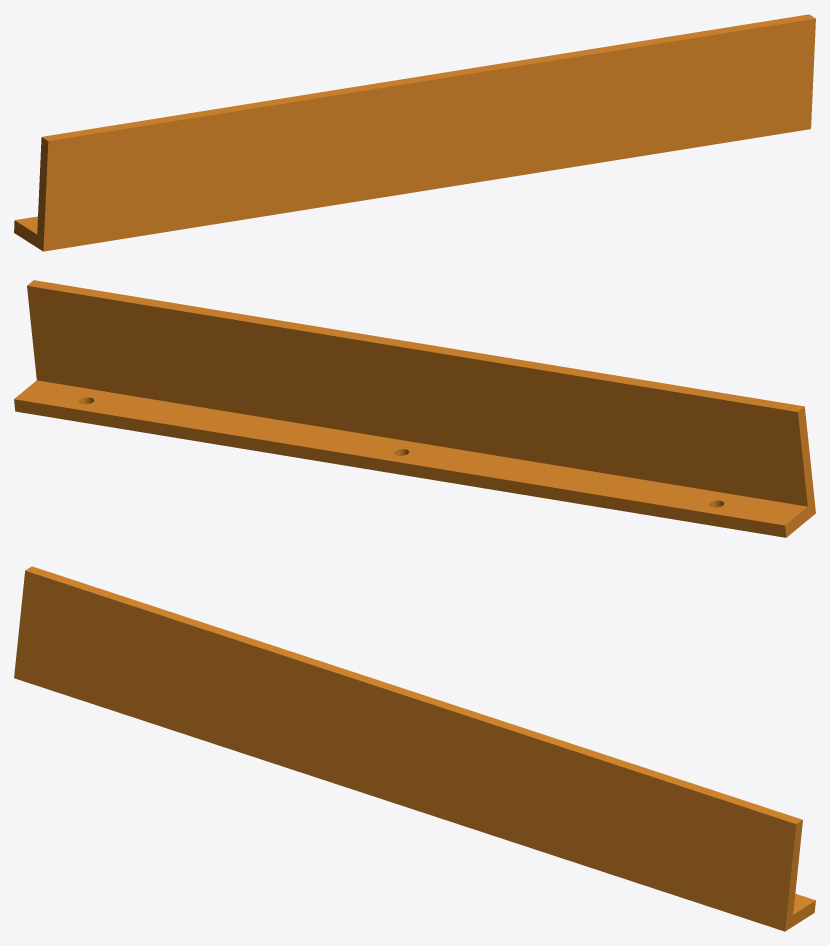
Rendered from bj_borda_f1.glb.
3 renders of one model, top to bottom at view 1: azimuth 30°, elevation 25°; view 2: azimuth 150°, elevation 25°; view 3: azimuth 330°, elevation 25°, orthographic.
Visible parts, largest first — view 1: bj_borda_f1; view 2: bj_borda_f1; view 3: bj_borda_f1.
Boxes of the visible parts, x1,y1,x2,y2 form: bj_borda_f1: (14, 14, 815, 251); bj_borda_f1: (14, 280, 815, 537); bj_borda_f1: (14, 566, 815, 931).
Size of the model in its own units: 197 by 41.91 by 13.94.
